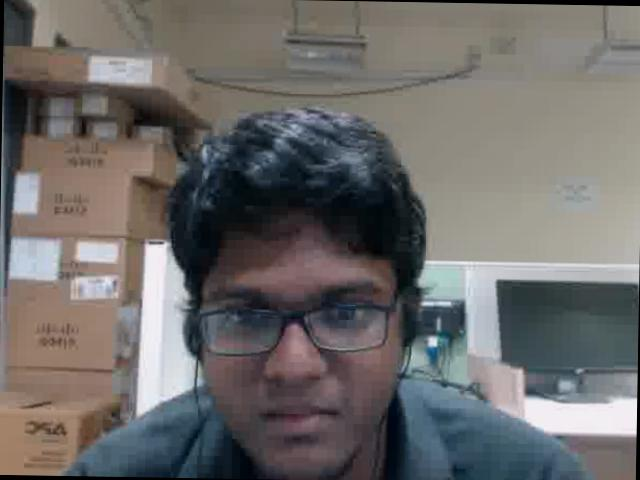bingung: (198, 219, 404, 478)
